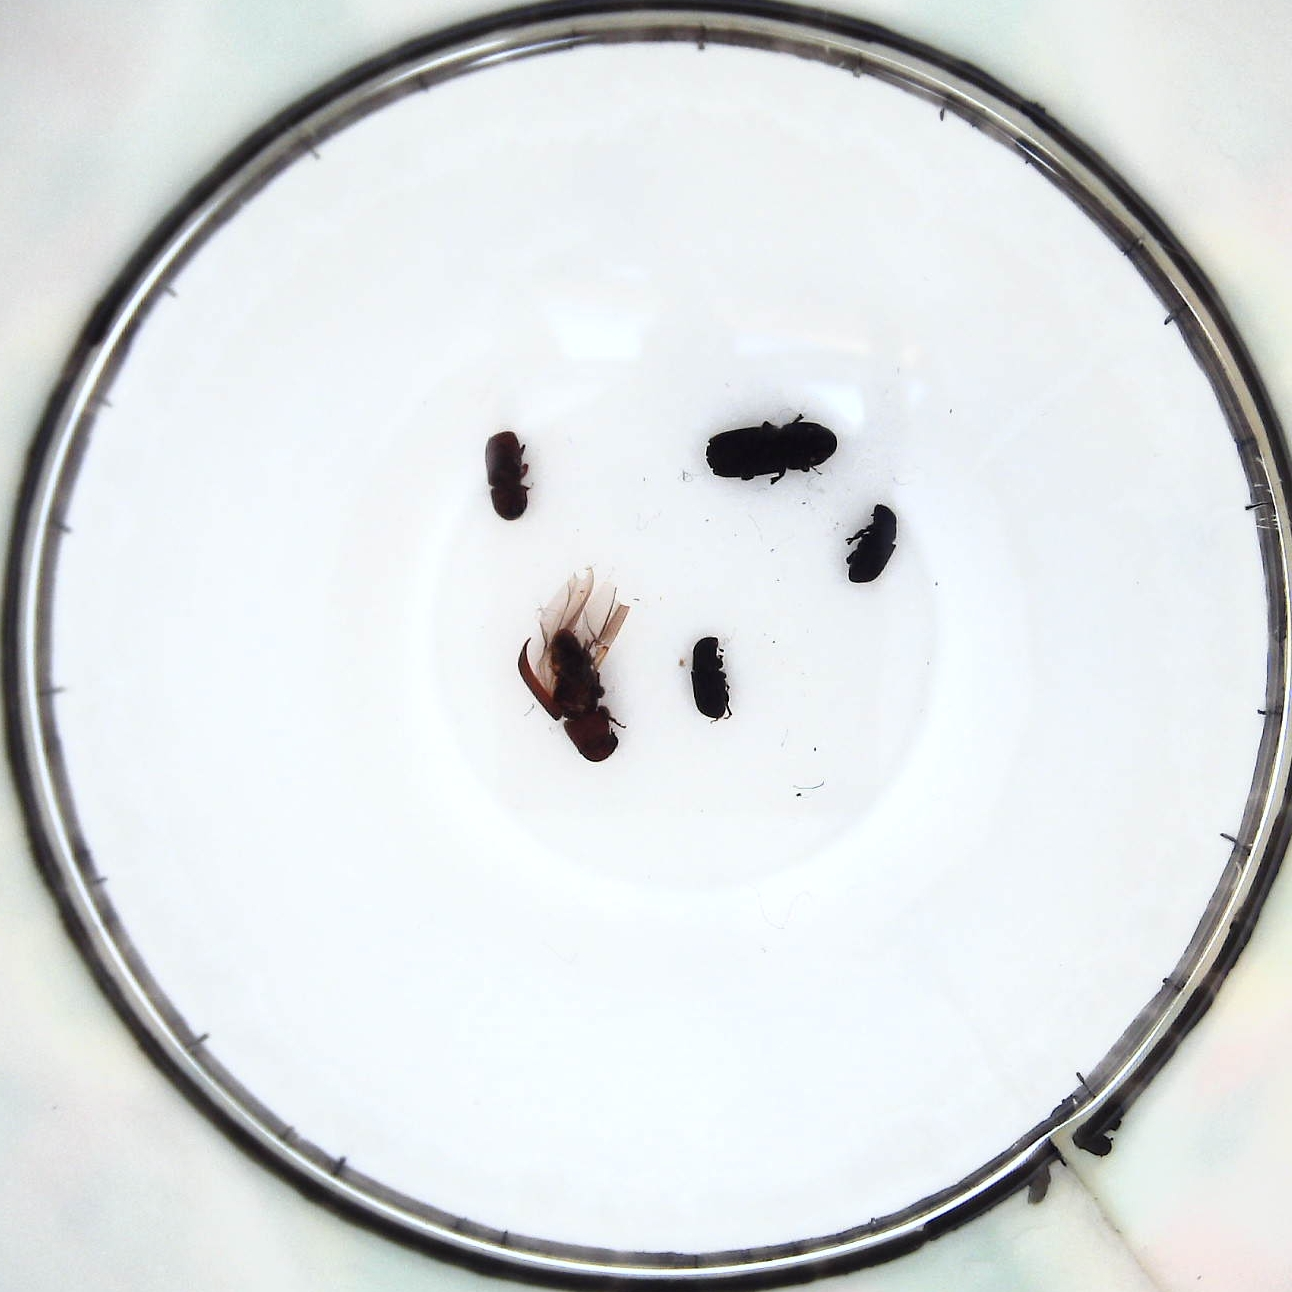Boerner: (703, 416, 842, 482)
Leconte: (518, 609, 622, 758)
Linnaeus: (486, 434, 535, 529)
armandi: (840, 508, 899, 590), (684, 634, 734, 729)
